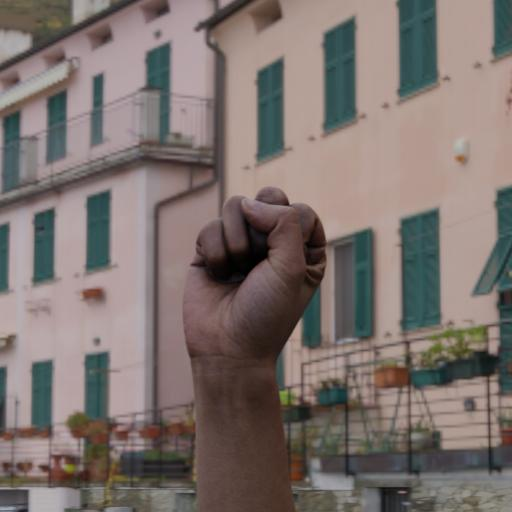S: (180, 179, 331, 363)
